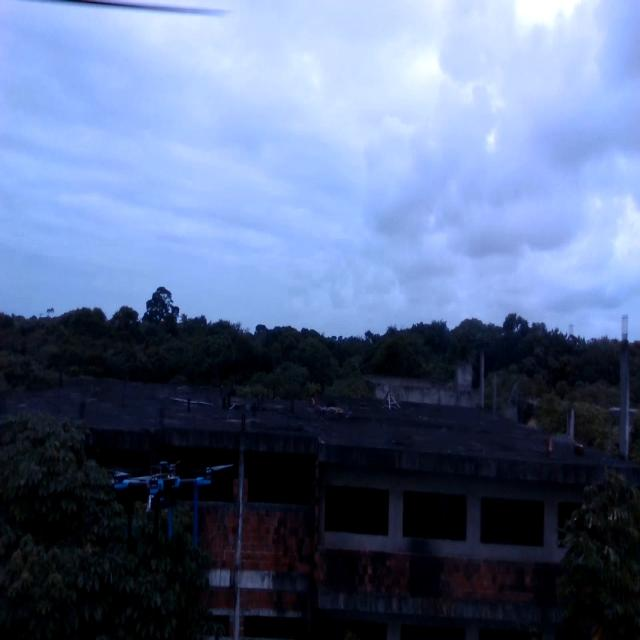-uav-: (104, 434, 242, 562)
